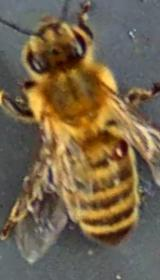varroa_mite: (97, 134, 143, 168)
